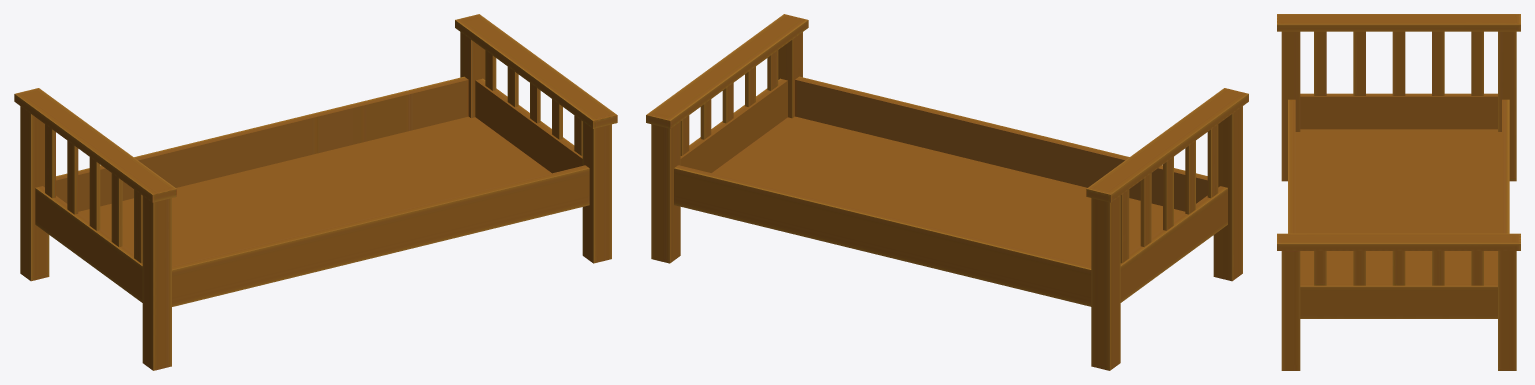
The model's file is SingleBedFrame.fbx.
3 views of the same model, side by side, from view 1: azimuth 30°, elevation 25°; view 2: azimuth 150°, elevation 25°; view 3: azimuth 270°, elevation 25° (orthographic). The views are drawn at different scales.
Parts seen in each view (by area): view 1: SingleBedFrame; view 2: SingleBedFrame; view 3: SingleBedFrame.
Boxes of the visible parts, x1=… form: SingleBedFrame: x1=14, y1=14, x2=617, y2=370; SingleBedFrame: x1=646, y1=14, x2=1248, y2=370; SingleBedFrame: x1=1277, y1=14, x2=1520, y2=370.
Bounding box in the file's own units: 201 × 104 × 73.96.
